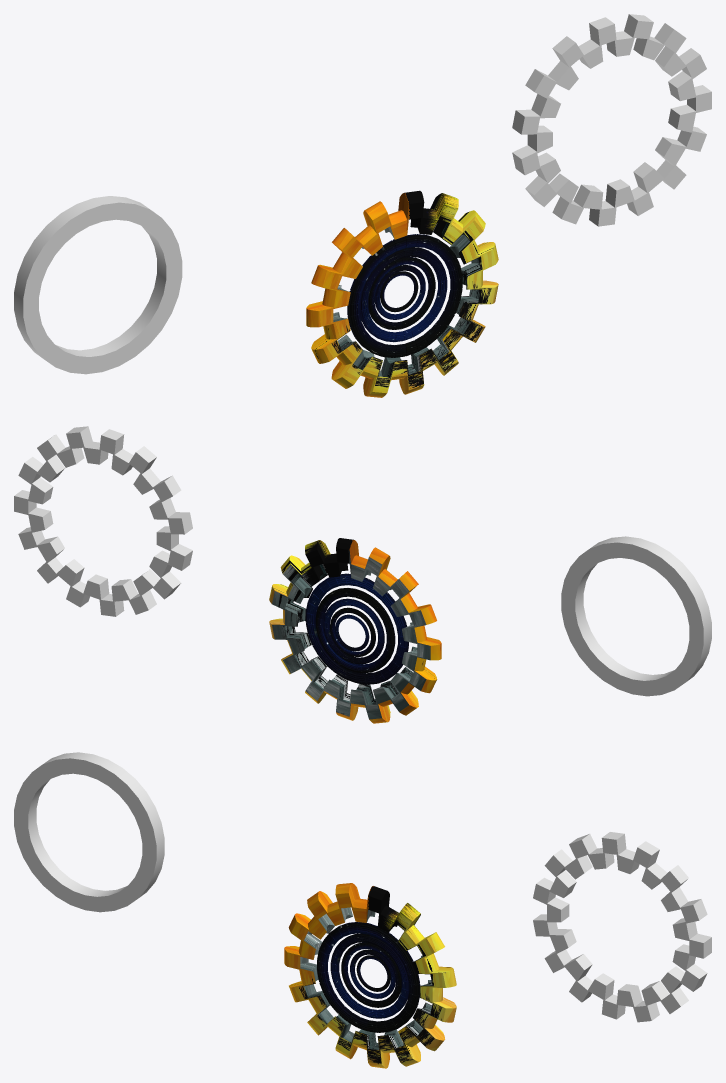
File: base_Musuh.FBX
3 views of the same model, one above another, from view 1: azimuth 30°, elevation 25°; view 2: azimuth 150°, elevation 25°; view 3: azimuth 330°, elevation 25° (orthographic). The views are drawn at different scales.
Parts seen in each view (by area): view 1: Tube002, Tube003, Tube001, Tube009, Tube008, Tube007, Tube010; view 2: Tube002, Tube003, Tube001, Tube009, Tube008, Tube007, Tube010; view 3: Tube002, Tube003, Tube001, Tube009, Tube008, Tube007, Tube010.
Part boxes in pixels (x1,y1,x2,y2): Tube002: (512,14,711,226); Tube003: (306,190,498,397); Tube001: (14,196,182,374); Tube009: (347,234,462,357); Tube008: (359,247,447,342); Tube007: (368,257,435,329); Tube010: (374,265,425,319); Tube002: (14,426,192,616); Tube003: (269,538,441,723); Tube001: (561,536,711,696); Tube009: (305,573,408,684); Tube008: (315,588,395,673); Tube007: (323,598,384,664); Tube010: (330,607,375,656); Tube002: (533,832,711,1022); Tube003: (284,883,456,1068); Tube001: (14,752,164,912); Tube009: (317,922,420,1032); Tube008: (330,933,409,1018); Tube007: (341,942,401,1007); Tube010: (350,949,395,998).
Size of the model in its own units: 456 by 173 by 53.66.
Materials: 2 (2 with a texture image).
